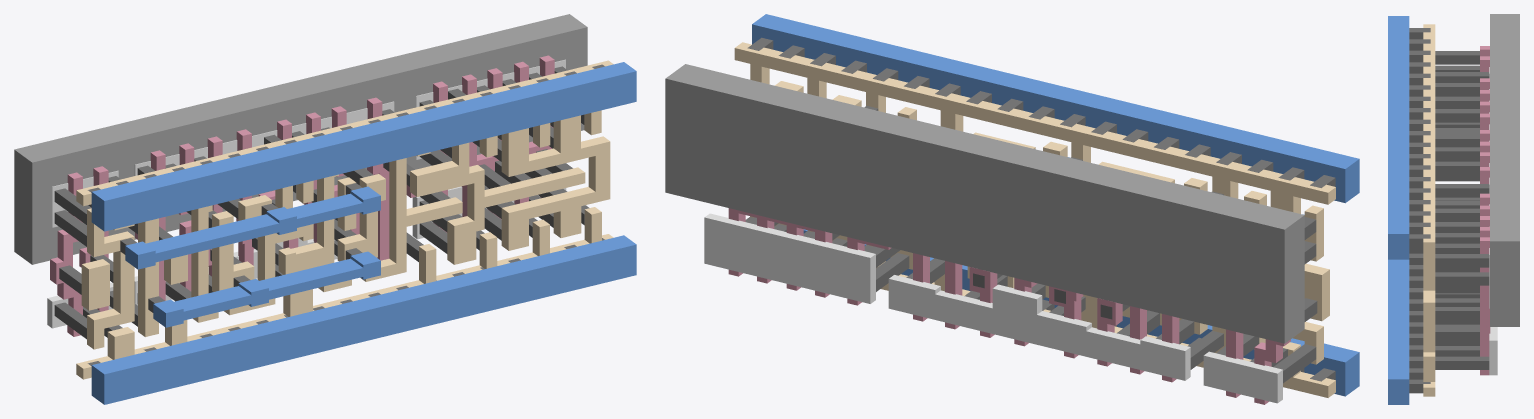
File: sky130_fd_sc_hd__dfxtp_4.gds.gltf
3 views of the same model, side by side, from view 1: azimuth 30°, elevation 25°; view 2: azimuth 150°, elevation 25°; view 3: azimuth 270°, elevation 25° (orthographic). The views are drawn at different scales.
Parts seen in each view (by area): view 1: sky130_fd_sc_hd__dfxtp_4_met1, sky130_fd_sc_hd__dfxtp_4_li1, sky130_fd_sc_hd__dfxtp_4_nwell, sky130_fd_sc_hd__dfxtp_4_licon, sky130_fd_sc_hd__dfxtp_4_poly, sky130_fd_sc_hd__dfxtp_4_diff, sky130_fd_sc_hd__dfxtp_4_mcon; view 2: sky130_fd_sc_hd__dfxtp_4_nwell, sky130_fd_sc_hd__dfxtp_4_diff, sky130_fd_sc_hd__dfxtp_4_met1, sky130_fd_sc_hd__dfxtp_4_li1, sky130_fd_sc_hd__dfxtp_4_poly, sky130_fd_sc_hd__dfxtp_4_licon, sky130_fd_sc_hd__dfxtp_4_mcon; view 3: sky130_fd_sc_hd__dfxtp_4_licon, sky130_fd_sc_hd__dfxtp_4_nwell, sky130_fd_sc_hd__dfxtp_4_met1, sky130_fd_sc_hd__dfxtp_4_mcon, sky130_fd_sc_hd__dfxtp_4_li1, sky130_fd_sc_hd__dfxtp_4_poly, sky130_fd_sc_hd__dfxtp_4_diff.
Boxes of the visible parts, box(x1,y1,x2,y2) form: sky130_fd_sc_hd__dfxtp_4_met1: box(91, 62, 636, 404); sky130_fd_sc_hd__dfxtp_4_li1: box(76, 60, 613, 379); sky130_fd_sc_hd__dfxtp_4_nwell: box(14, 14, 587, 264); sky130_fd_sc_hd__dfxtp_4_licon: box(54, 66, 589, 339); sky130_fd_sc_hd__dfxtp_4_poly: box(50, 55, 554, 336); sky130_fd_sc_hd__dfxtp_4_diff: box(47, 59, 566, 328); sky130_fd_sc_hd__dfxtp_4_mcon: box(88, 64, 604, 365); sky130_fd_sc_hd__dfxtp_4_nwell: box(665, 64, 1304, 343); sky130_fd_sc_hd__dfxtp_4_diff: box(704, 213, 1282, 403); sky130_fd_sc_hd__dfxtp_4_met1: box(752, 14, 1359, 396); sky130_fd_sc_hd__dfxtp_4_li1: box(734, 42, 1335, 397); sky130_fd_sc_hd__dfxtp_4_poly: box(728, 208, 1290, 404); sky130_fd_sc_hd__dfxtp_4_licon: box(745, 105, 1317, 383); sky130_fd_sc_hd__dfxtp_4_mcon: box(747, 37, 1335, 381); sky130_fd_sc_hd__dfxtp_4_licon: box(1435, 51, 1489, 369); sky130_fd_sc_hd__dfxtp_4_nwell: box(1490, 14, 1519, 326); sky130_fd_sc_hd__dfxtp_4_met1: box(1388, 16, 1409, 404); sky130_fd_sc_hd__dfxtp_4_mcon: box(1409, 28, 1430, 393); sky130_fd_sc_hd__dfxtp_4_li1: box(1423, 24, 1435, 396); sky130_fd_sc_hd__dfxtp_4_poly: box(1480, 46, 1490, 375); sky130_fd_sc_hd__dfxtp_4_diff: box(1489, 67, 1497, 375).
Bounding box in the file's own units: 9.12 × 3.2 × 2.24.
